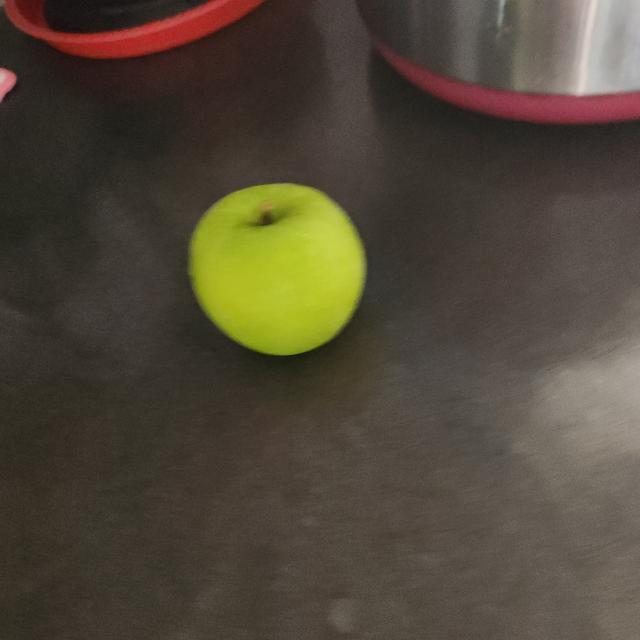apple: (182, 180, 368, 366)
